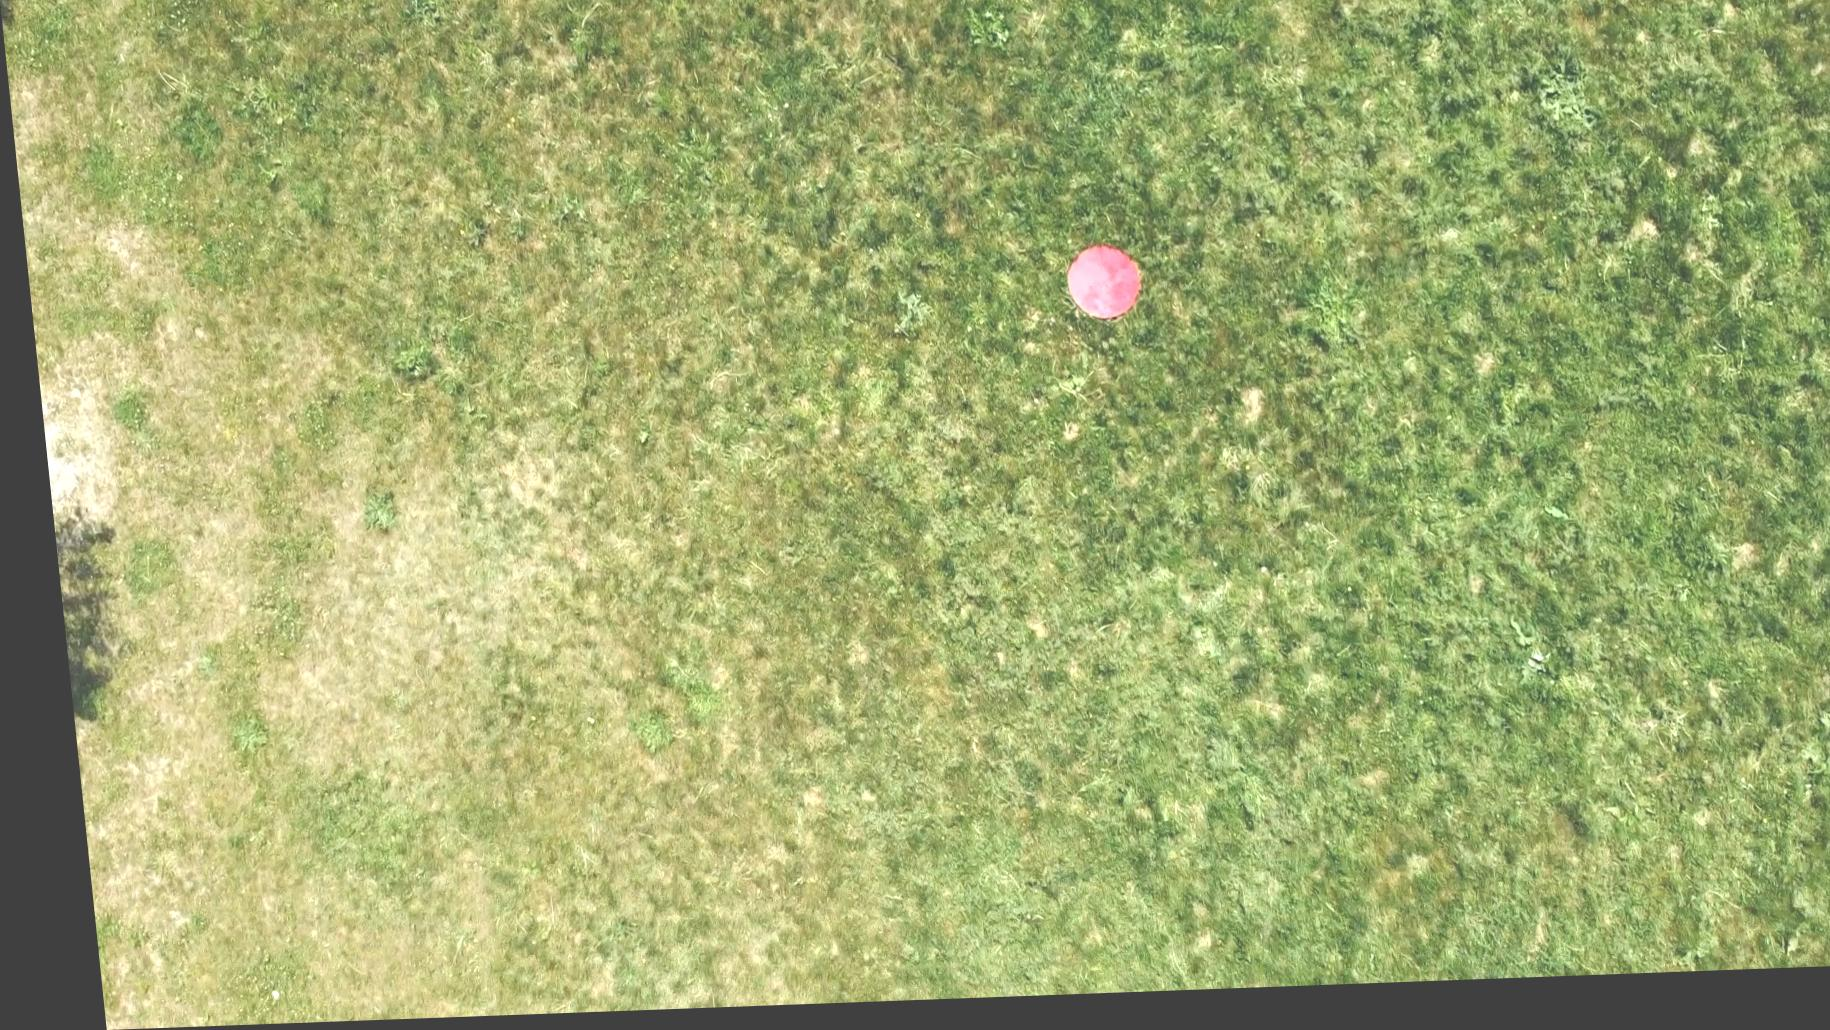Red: (1056, 249, 1140, 332)
